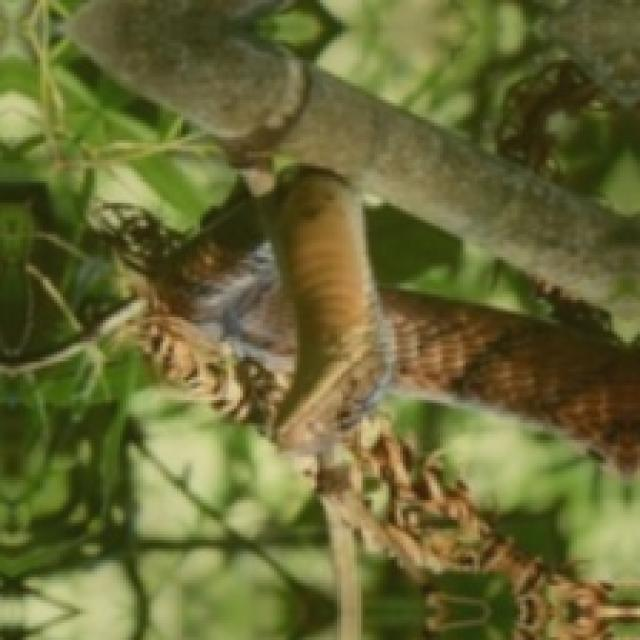king cobra: (260, 169, 383, 449)
